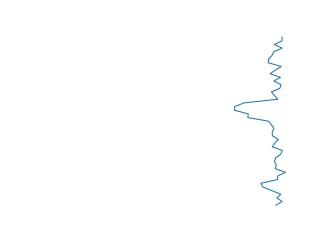interdistributaryEstuary: (229, 38, 293, 205)
